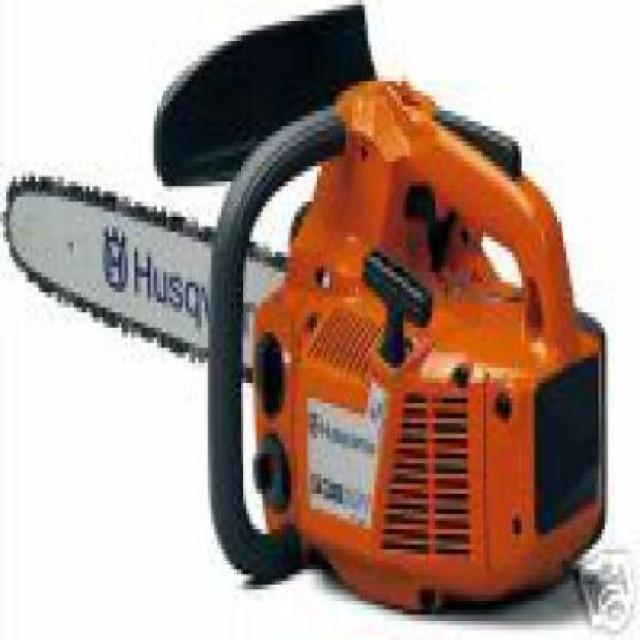Chainsaw: (0, 0, 609, 620)
